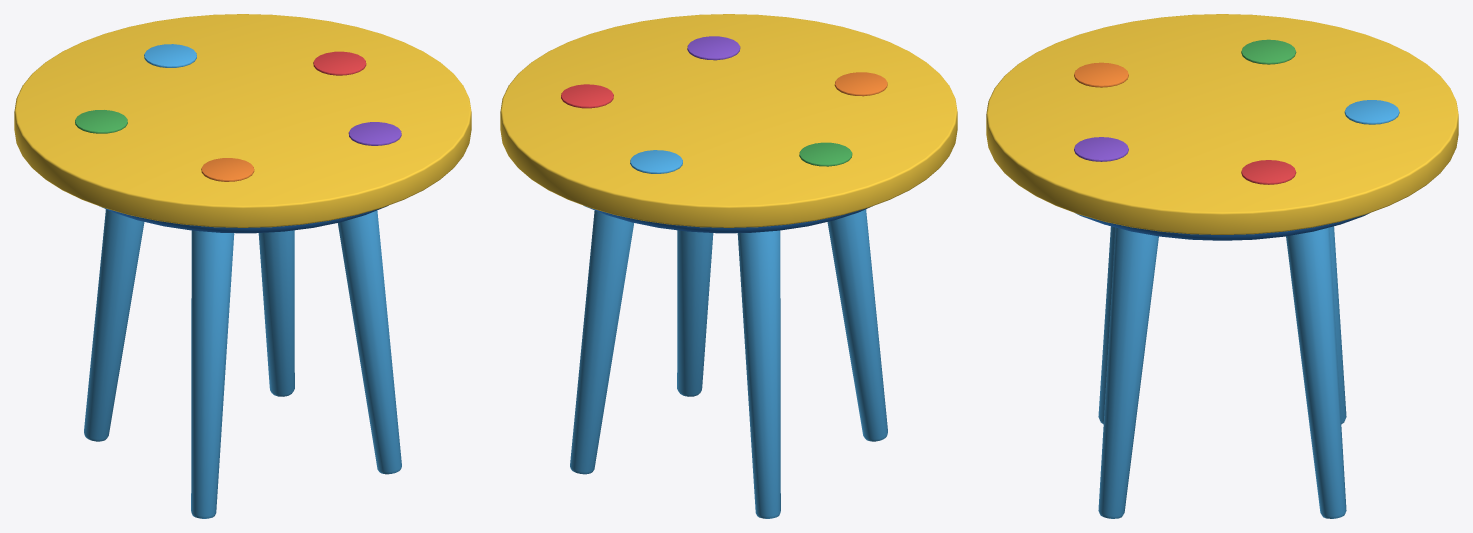
Rendered from mesa_infantil_redonda_amarela.glb.
3 renders of one model, left to right at view 1: azimuth 30°, elevation 25°; view 2: azimuth 150°, elevation 25°; view 3: azimuth 270°, elevation 25°, orthographic. The views are drawn at different scales.
Visible parts, largest first — view 1: mesa_infantil_redonda_amarela; view 2: mesa_infantil_redonda_amarela; view 3: mesa_infantil_redonda_amarela.
Part boxes in pixels (x1,y1,x2,y2): mesa_infantil_redonda_amarela: (14, 14, 471, 518); mesa_infantil_redonda_amarela: (500, 14, 957, 518); mesa_infantil_redonda_amarela: (986, 14, 1458, 518).
Bounding box in the file's own units: 0.6 × 0.503 × 0.6.
1 material, 1 textured.
